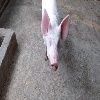heo: (40, 6, 69, 73)
